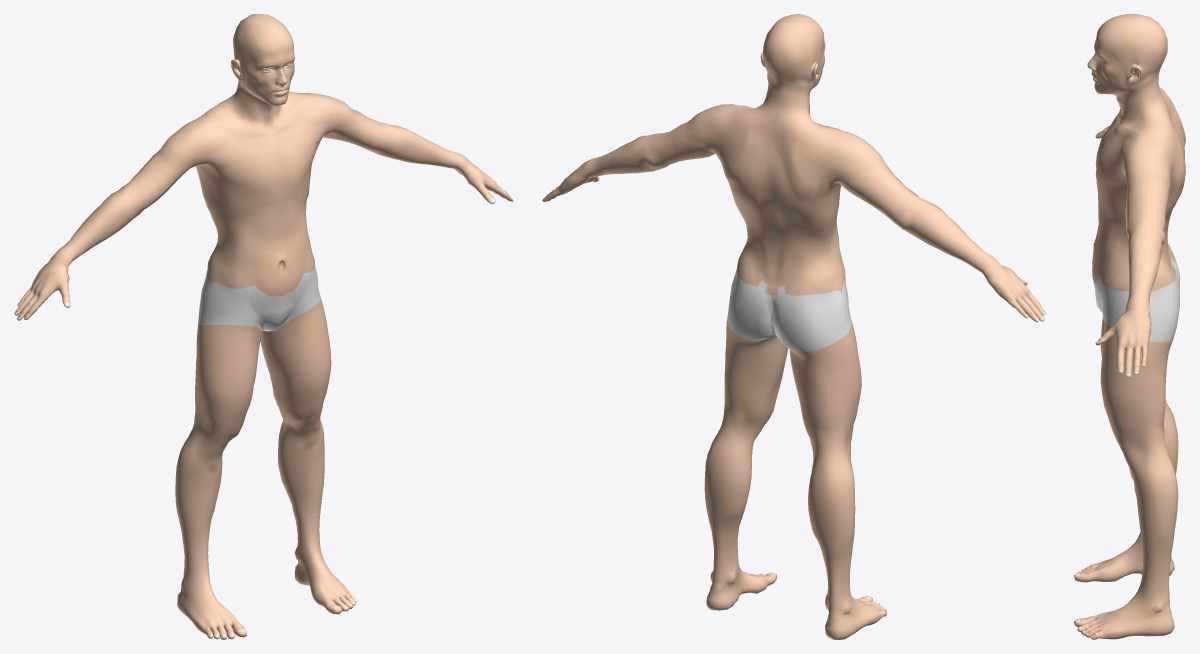
Rendered from Men_S.glb.
3 renders of one model, left to right at view 1: azimuth 30°, elevation 25°; view 2: azimuth 150°, elevation 25°; view 3: azimuth 270°, elevation 25°, orthographic.
Visible parts, largest first — view 1: m_ca01; view 2: m_ca01; view 3: m_ca01.
Part boxes in pixels (box(x1,y1,x2,y2)): m_ca01: box(14, 14, 513, 639); m_ca01: box(542, 14, 1045, 639); m_ca01: box(1074, 14, 1185, 639).
Size of the model in its own units: 1.59 by 1.81 by 0.3128.
Materials: 10 (1 with a texture image).
